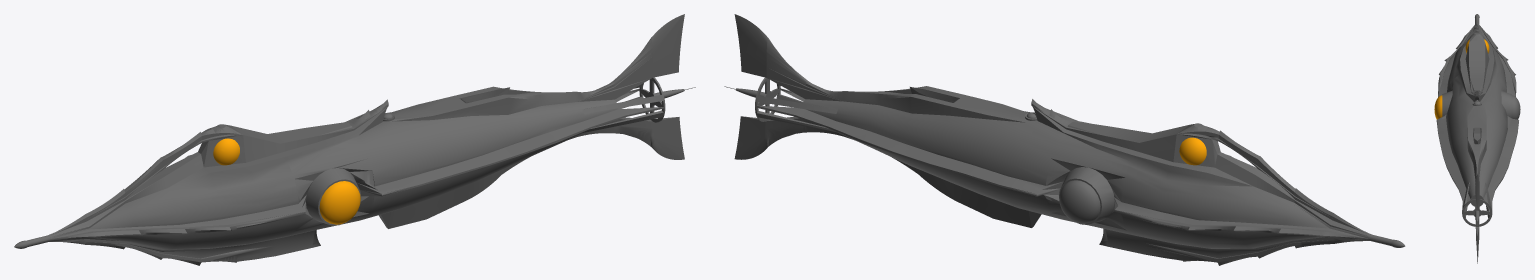
Rendered from Submarines2.fbx.
3 views of the same model, side by side, from view 1: azimuth 30°, elevation 25°; view 2: azimuth 150°, elevation 25°; view 3: azimuth 270°, elevation 25° (orthographic). The views are drawn at different scales.
Parts seen in each view (by area): view 1: Group_001; view 2: Group_001; view 3: Group_001.
Boxes of the visible parts, left/top/right/bottom form: Group_001: left=14, top=14, right=695, bottom=265; Group_001: left=724, top=14, right=1405, bottom=265; Group_001: left=1434, top=14, right=1520, bottom=263.
Size of the model in its own units: 5516 by 1137 by 968.
